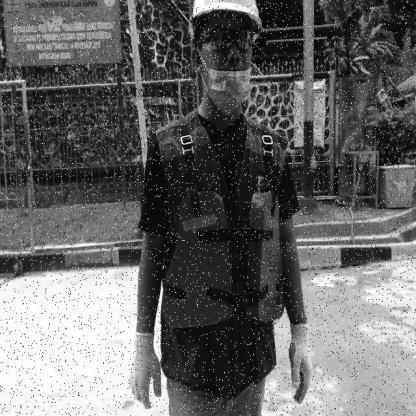gloves: (127, 329, 163, 415), (284, 320, 315, 406)
goggles: (204, 27, 256, 54)
helmet: (182, 0, 269, 24)
mask: (206, 69, 252, 118)
vest: (161, 190, 286, 329)
